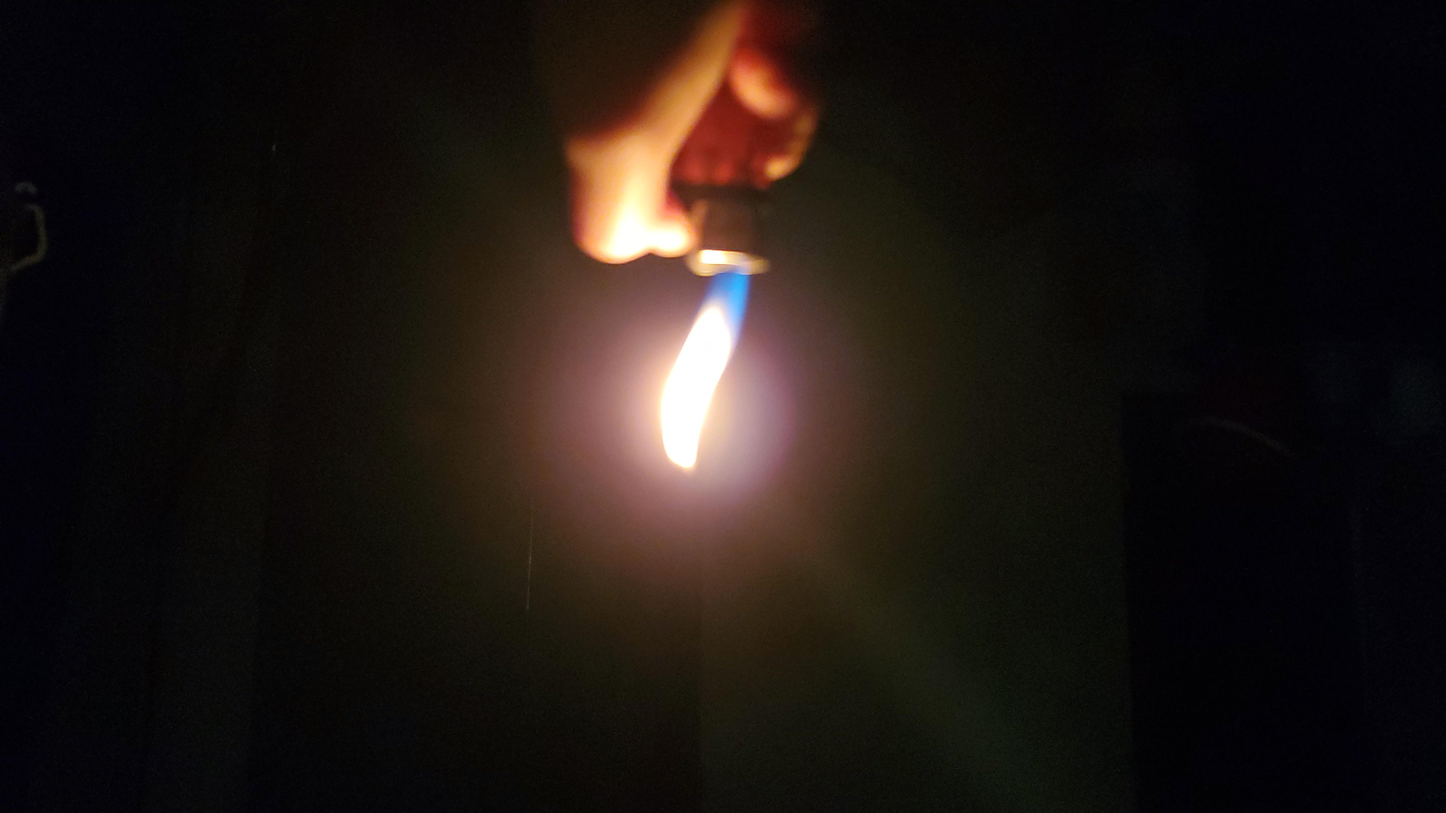fire: (719, 327, 800, 542)
